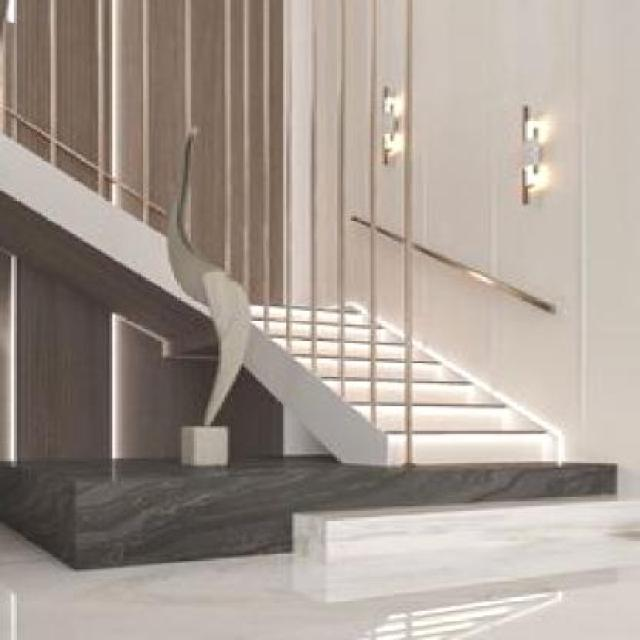stair: (178, 159, 602, 561)
